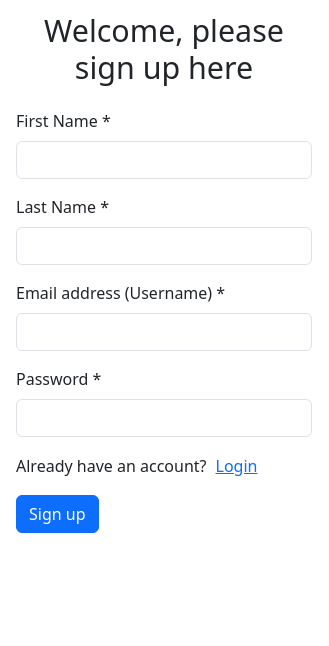
Test case: displays error message when first name is not provided
Step 1. Click the button "Sign up" → [57, 514], box [16,495,98,533]
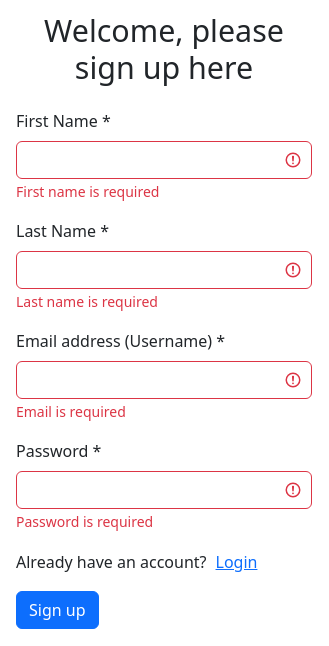
Expected: the text "First name is required" is shown, [16,182,159,201]
